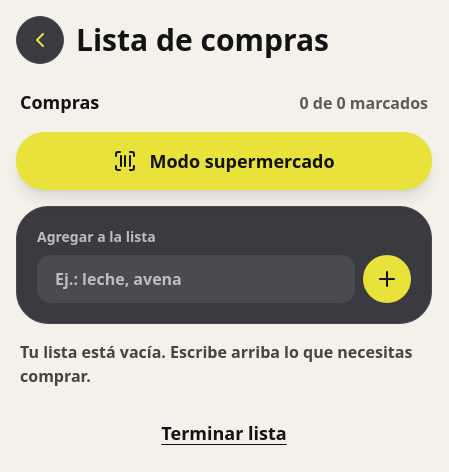
Scenario: ShoppingPage › adds a free-text item right away (HU-11 CA1)
Expected: the text "Tu lista está vacía" is shown, [20,341,412,387]
Type "  pan amasado " into the field labelled "Agregar a la lista" at (196, 279), box [37,255,355,303]
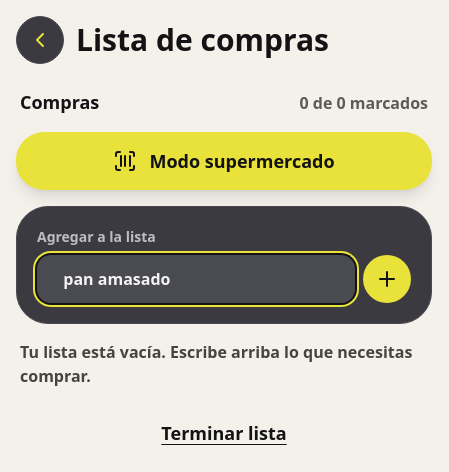
Click the button named "Agregar" at (387, 279), box [363,255,411,303]
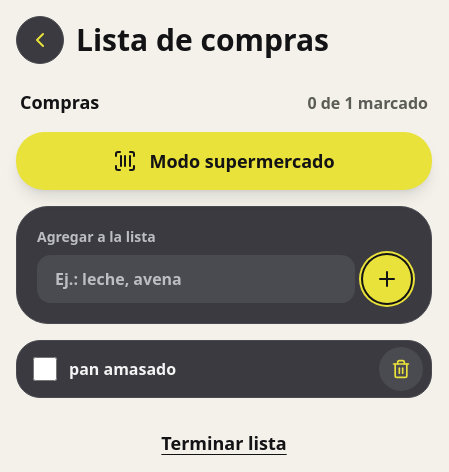
Expected: the checkbox labelled "pan amasado" is shown, [33,357,57,381]
Expected: the field labelled "Agregar a la lista" is empty, [37,255,355,303]
